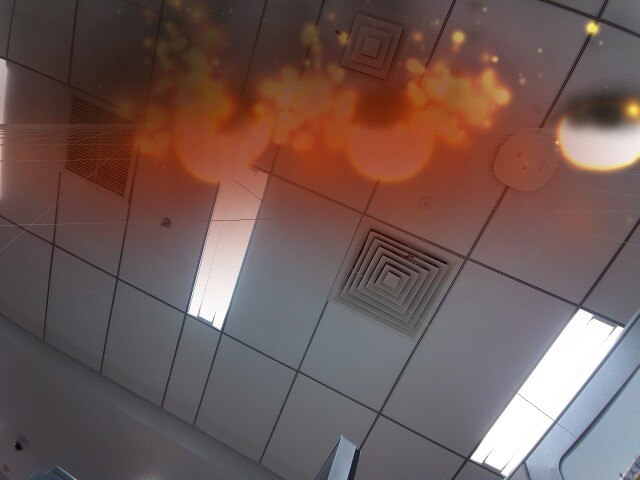fire: (171, 101, 271, 182), (348, 95, 438, 183), (556, 91, 640, 173)
